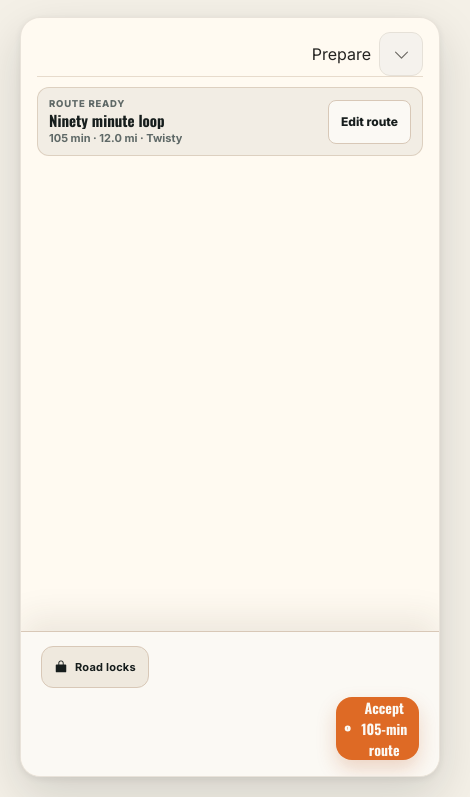
Scenario: timeboxed loop acceptance identity › lets the rider accept a loop that missed its timebox and then start it
Click the button with aria-label "Accept 105-minute route instead of requested 90 minutes" at (378, 728), box x1=336 y1=697 x2=419 y2=760
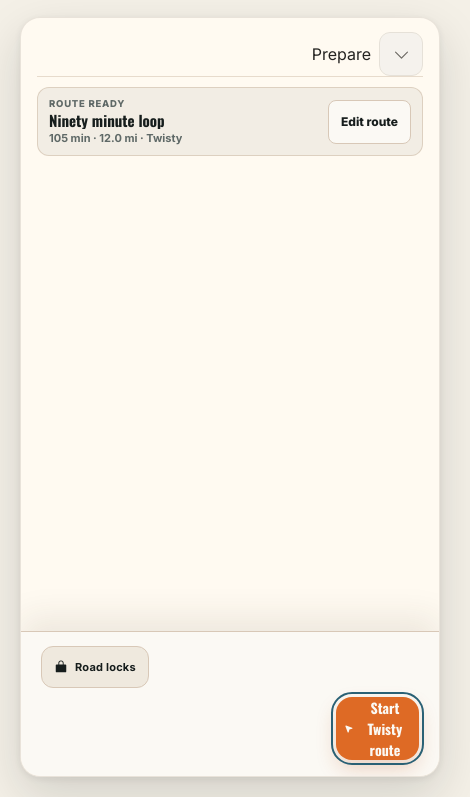
Check: the button "Start Twisty route" is shown, box x1=336 y1=697 x2=419 y2=760
